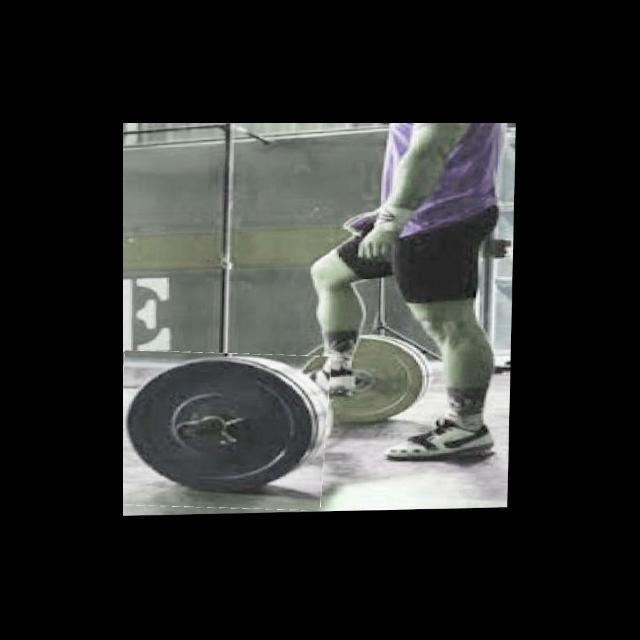barbell: (123, 350, 329, 512)
